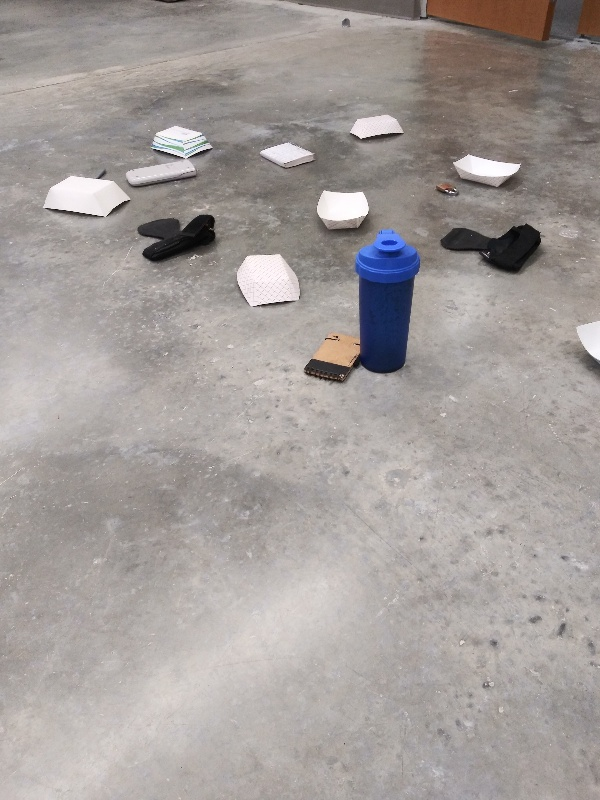plate: (35, 174, 133, 225), (233, 250, 306, 311), (447, 150, 527, 189), (144, 125, 220, 160), (314, 187, 370, 230), (571, 311, 600, 385), (344, 111, 407, 143)
